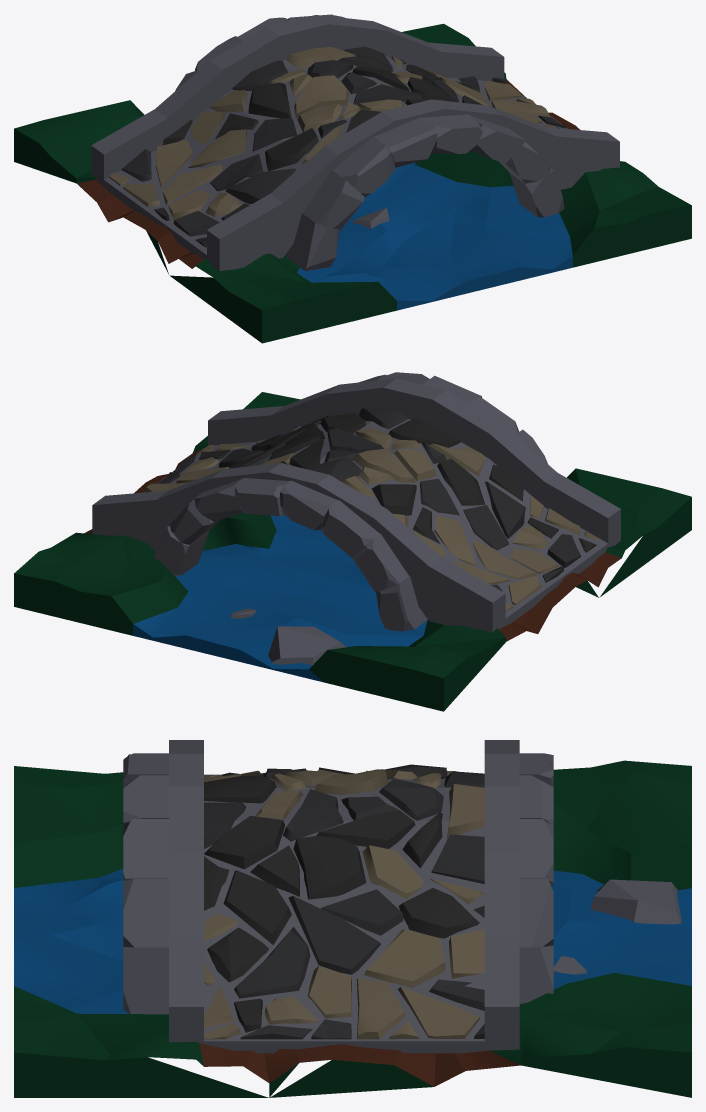
The model's file is Bridge_H.fbx.
3 views of the same model, one above another, from view 1: azimuth 30°, elevation 25°; view 2: azimuth 150°, elevation 25°; view 3: azimuth 270°, elevation 25° (orthographic). The views are drawn at different scales.
Visible parts, largest first — view 1: Bridge_H; view 2: Bridge_H; view 3: Bridge_H.
Part boxes in pixels (x1=…): Bridge_H: x1=14, y1=14, x2=691, y2=343; Bridge_H: x1=14, y1=372, x2=691, y2=711; Bridge_H: x1=14, y1=740, x2=691, y2=1097.
Size of the model in its own units: 147 by 44.02 by 147.
